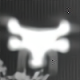plane: (1, 15, 78, 73)
